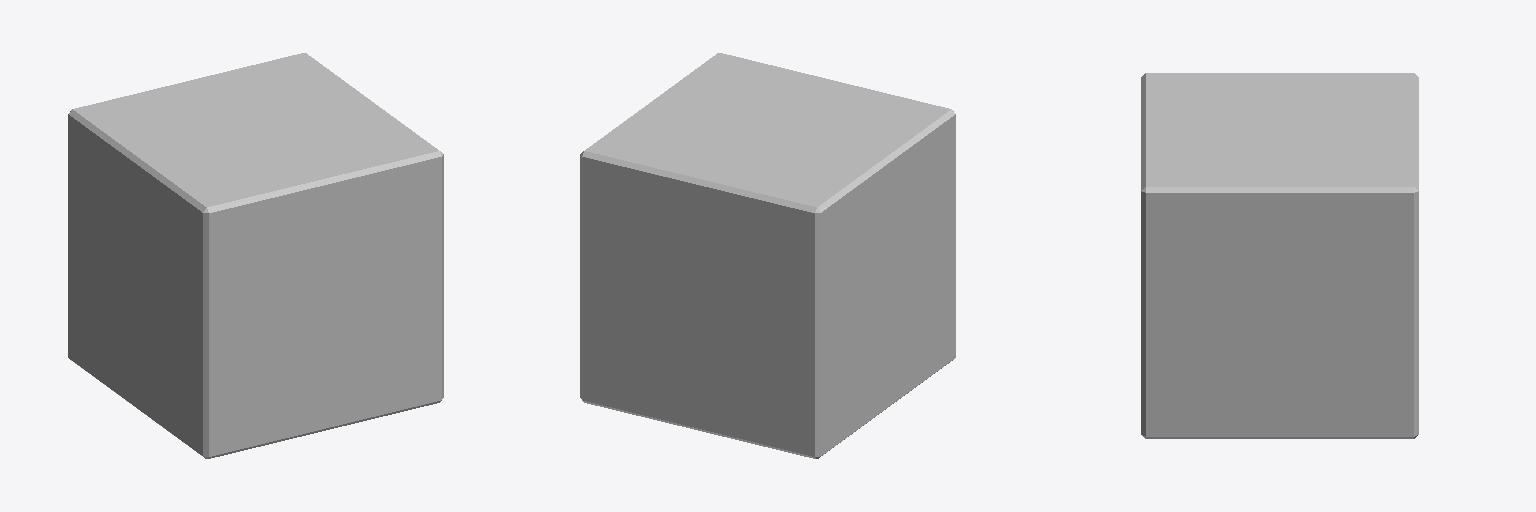
The model's file is Block.obj.
3 renders of one model, left to right at view 1: azimuth 30°, elevation 25°; view 2: azimuth 150°, elevation 25°; view 3: azimuth 270°, elevation 25°, orthographic.
Visible parts, largest first — view 1: Cube; view 2: Cube; view 3: Cube.
Part boxes in pixels (left/top/right/bottom): Cube: left=68, top=53, right=443, bottom=458; Cube: left=580, top=53, right=955, bottom=458; Cube: left=1141, top=73, right=1418, bottom=438.
Bounding box in the file's own units: 8.12 × 8.12 × 8.12.